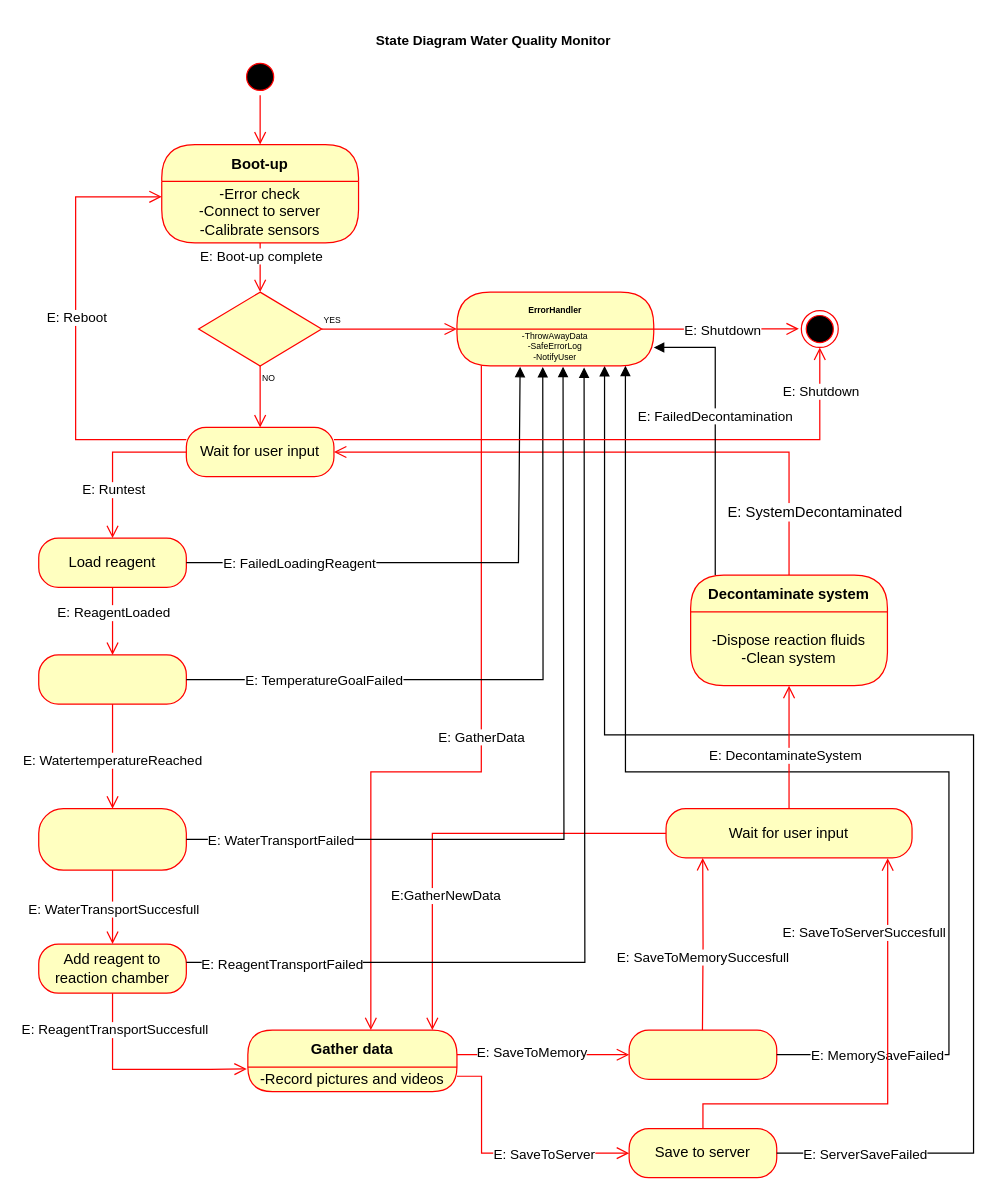
The diagram is 1005 pixels wide and 1199 high, and some of its shapes have lost their labels. Here are the shapes that lost their labels. From the top down, the centre of each, then its label:
At point (259, 328): "ERROR ENCOUNTERT".
At point (112, 679): "Create desired water temperature".
At point (112, 838): "Transport to be examined water to reaction chamber".
At point (702, 1054): "Save to memory".
